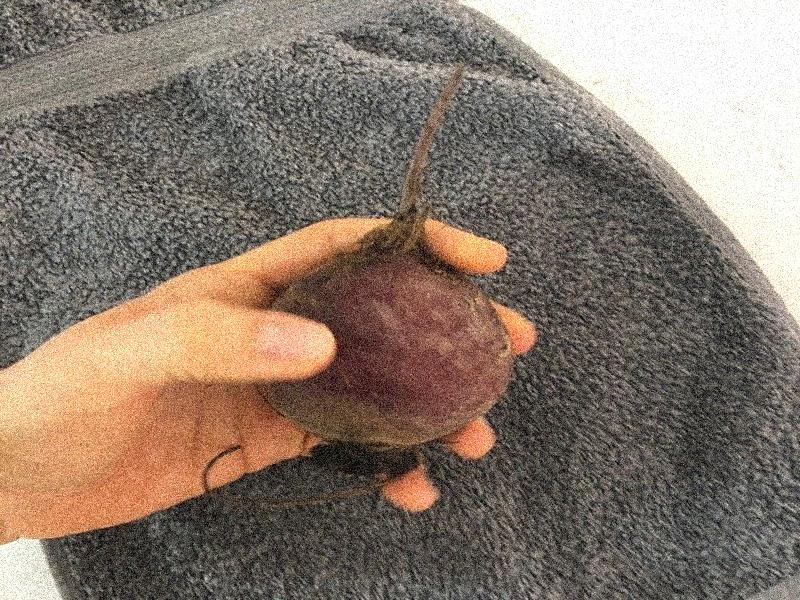Beet: (254, 59, 514, 473)
